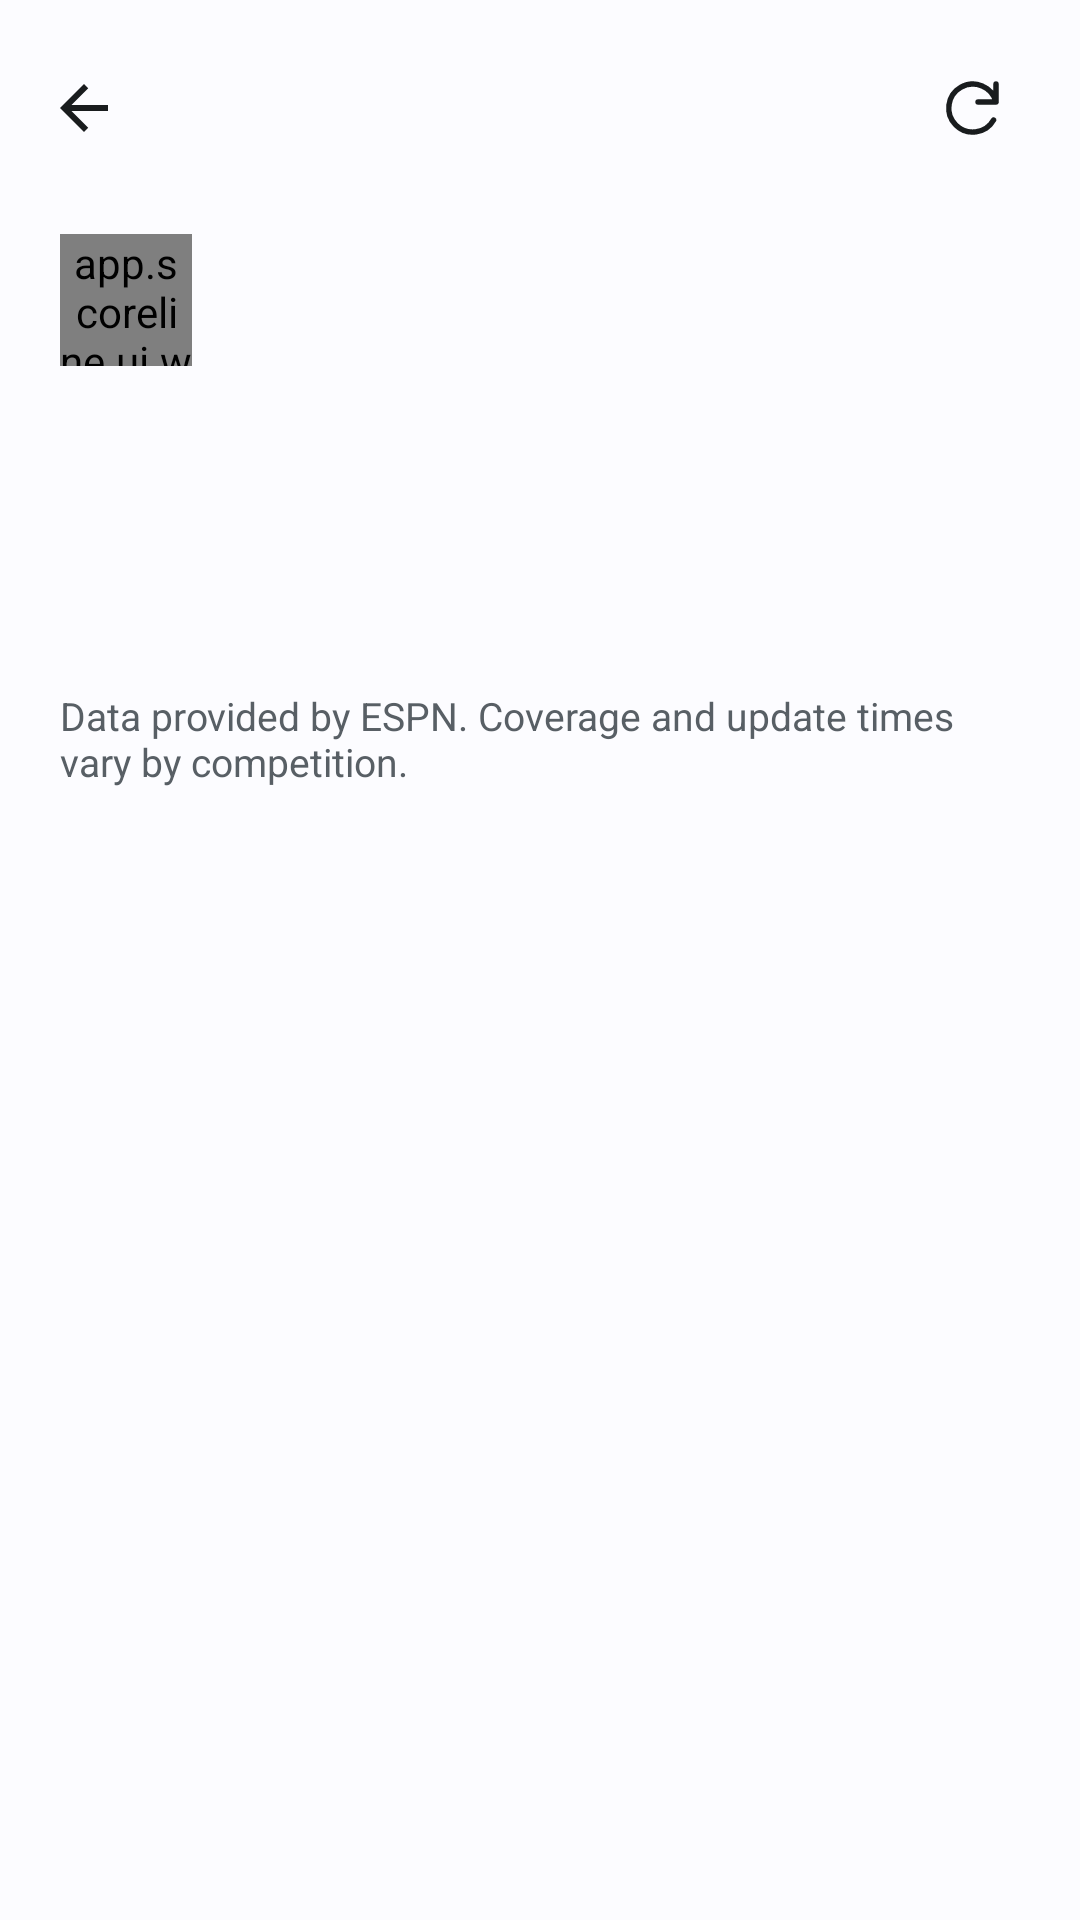

Named icons in this screenshot (1080w x 1920h) and their centers, (x,y):
Back: (84,108)
Refresh: (972,108)
